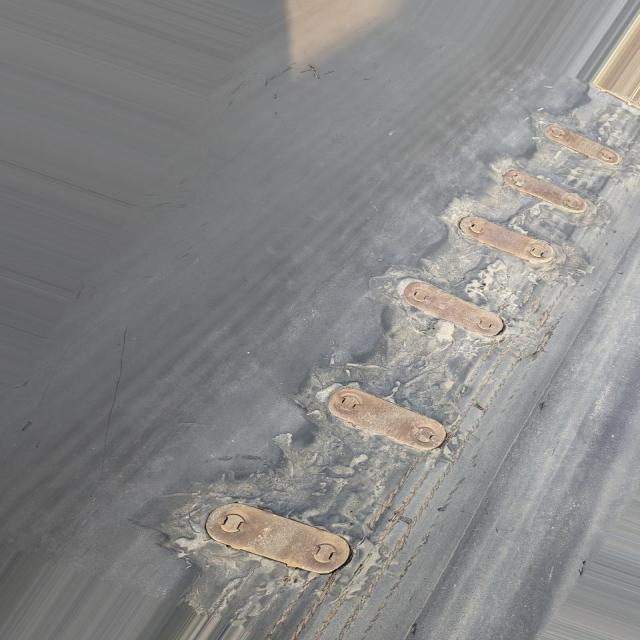patch work: (151, 84, 640, 625)
